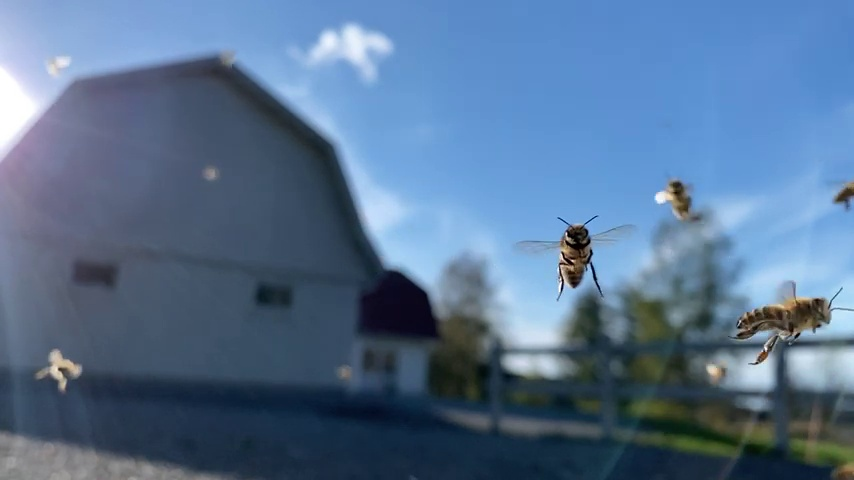insect: (728, 280, 854, 369), (516, 213, 637, 300), (30, 350, 85, 395), (655, 172, 700, 226)
